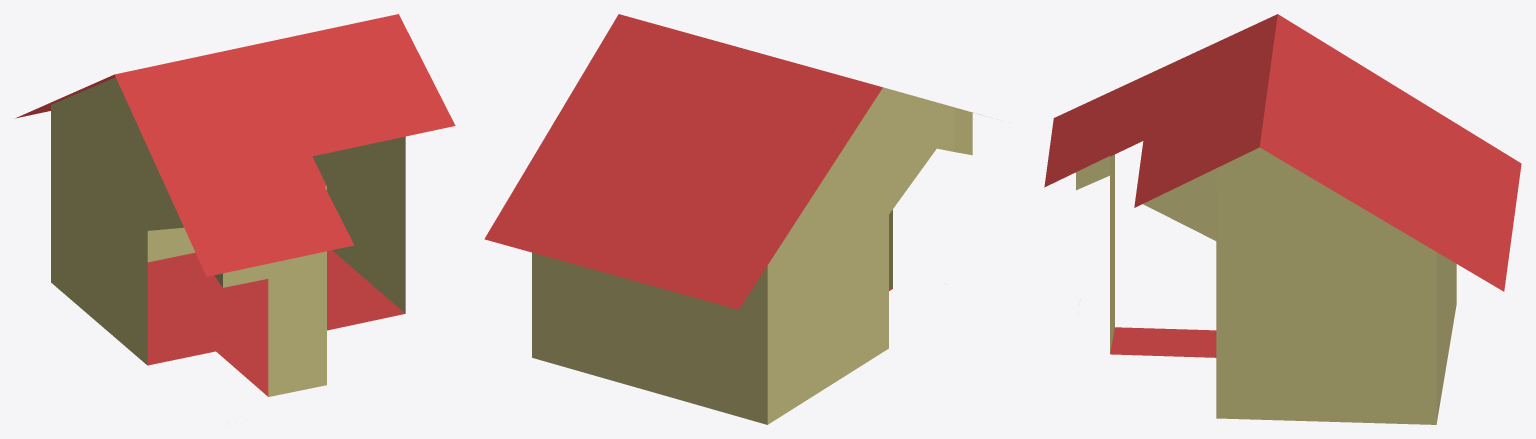
3 renders of one model, left to right at view 1: azimuth 30°, elevation 25°; view 2: azimuth 150°, elevation 25°; view 3: azimuth 270°, elevation 25°, orthographic.
Bounding box in the file's own units: 19.55 × 26.4 × 16.99.
